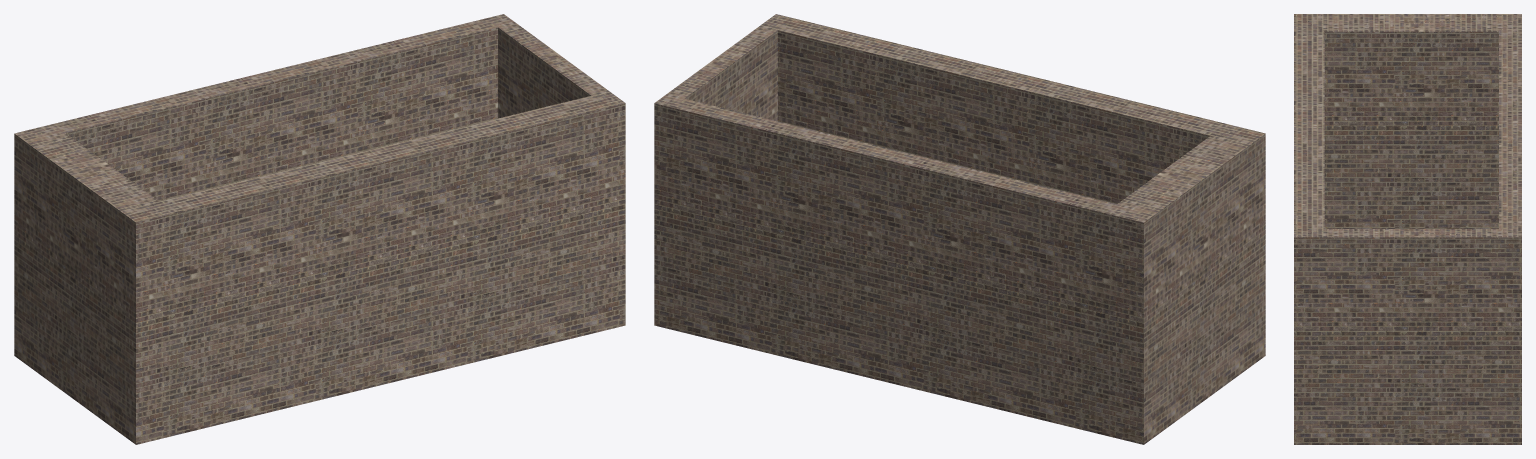
File: In class import test.fbx
3 views of the same model, side by side, from view 1: azimuth 30°, elevation 25°; view 2: azimuth 150°, elevation 25°; view 3: azimuth 270°, elevation 25° (orthographic). The views are drawn at different scales.
Parts seen in each view (by area): view 1: new material; view 2: new material; view 3: new material.
Part boxes in pixels (box(x1,y1,x2,y2)): new material: box(14, 14, 625, 444); new material: box(654, 14, 1265, 444); new material: box(1294, 14, 1521, 444).
Size of the model in its own units: 7201 by 3105 by 3123.
1 material, 1 textured.
